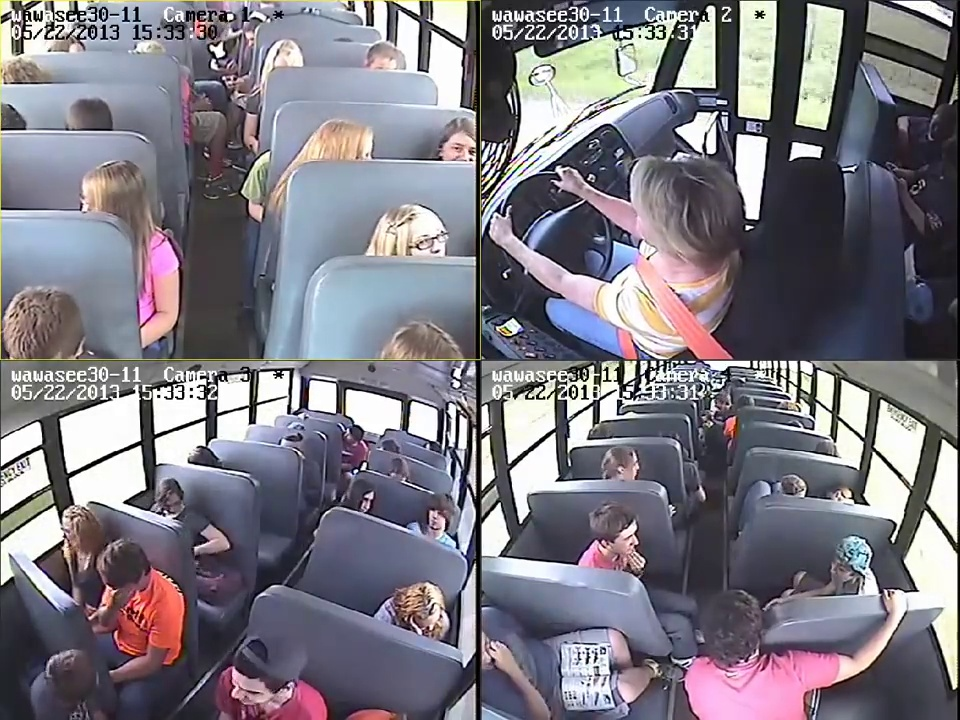face: (225, 667, 274, 707), (406, 216, 448, 256), (448, 122, 476, 161), (612, 521, 638, 560), (827, 554, 856, 584), (58, 515, 76, 553), (425, 504, 448, 533), (353, 488, 372, 511), (161, 497, 184, 516)
